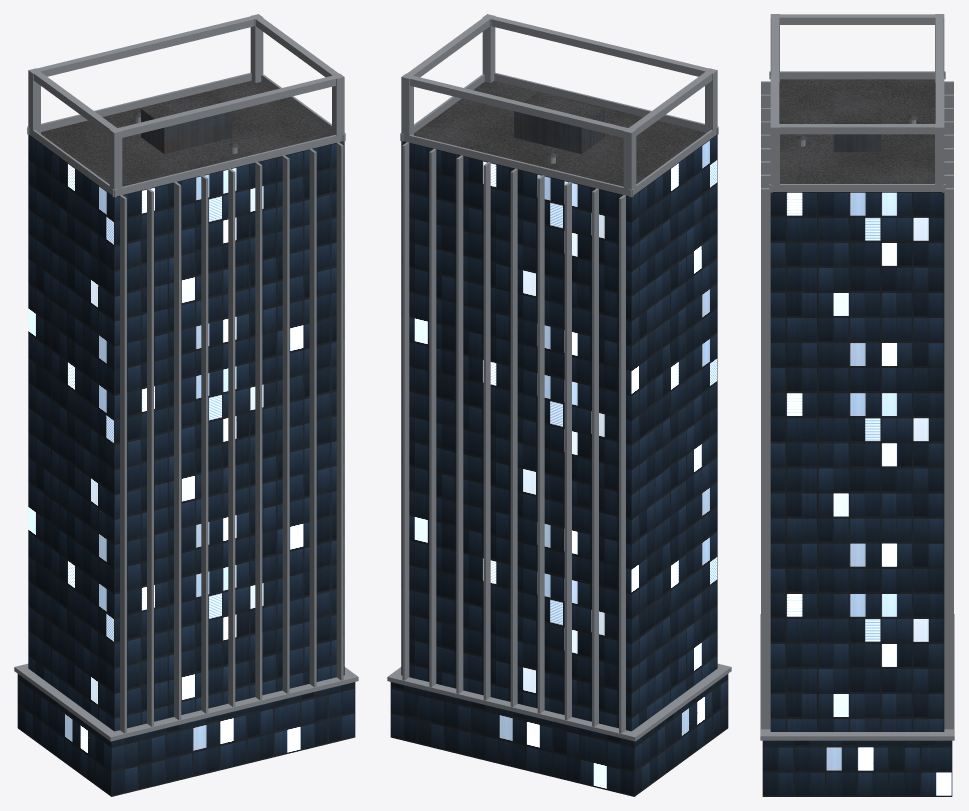
The model's file is building_02.glb.
The picture shows the model from 3 angles, left to right: view 1: azimuth 30°, elevation 25°; view 2: azimuth 150°, elevation 25°; view 3: azimuth 270°, elevation 25°; orthographic projection.
Parts seen in each view (by area): view 1: Render; view 2: Render; view 3: Render.
Boxes of the visible parts, x1,y1,x2,y2 form: Render: [14, 14, 358, 796]; Render: [387, 14, 731, 796]; Render: [760, 14, 954, 796].
Size of the model in its own units: 36.6 by 93 by 24.6.
Materials: 5 (3 with a texture image).
